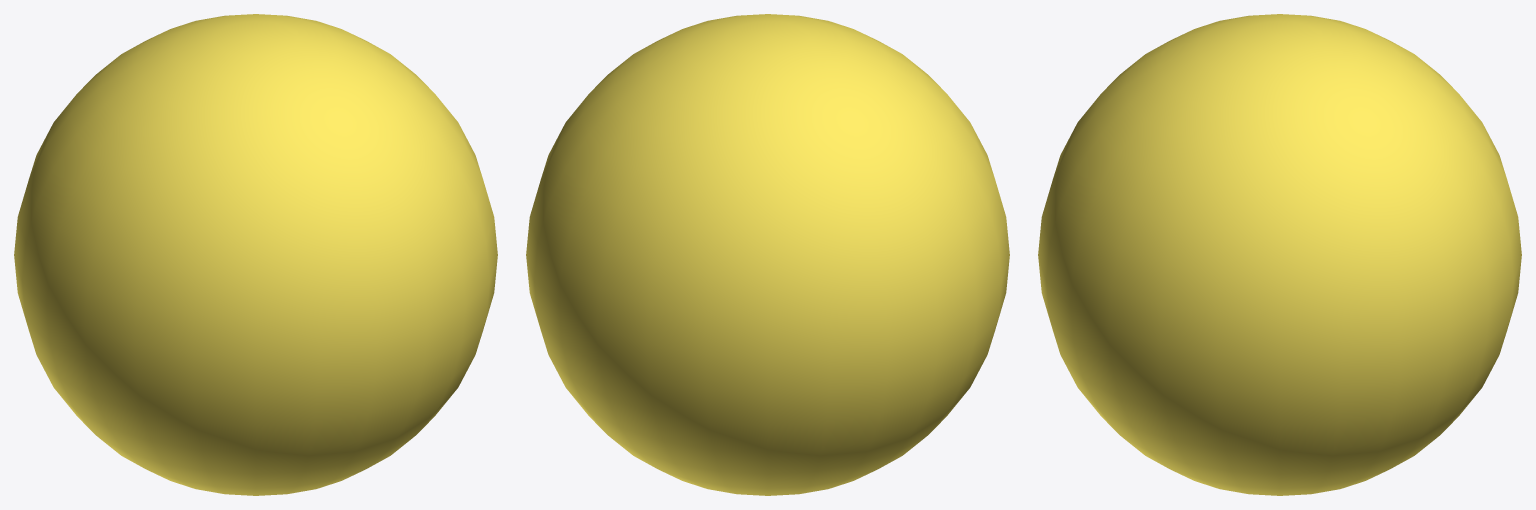
The model's file is peroxisome.glb.
The picture shows the model from 3 angles, left to right: view 1: azimuth 30°, elevation 25°; view 2: azimuth 150°, elevation 25°; view 3: azimuth 270°, elevation 25°; orthographic projection.
Visible parts, largest first — view 1: Peroxisome; view 2: Peroxisome; view 3: Peroxisome.
Part boxes in pixels (bbox=[...]): Peroxisome: bbox=[14, 14, 497, 495]; Peroxisome: bbox=[526, 14, 1009, 495]; Peroxisome: bbox=[1038, 14, 1521, 495].
Bounding box in the file's own units: 0.48 × 0.48 × 0.48.
